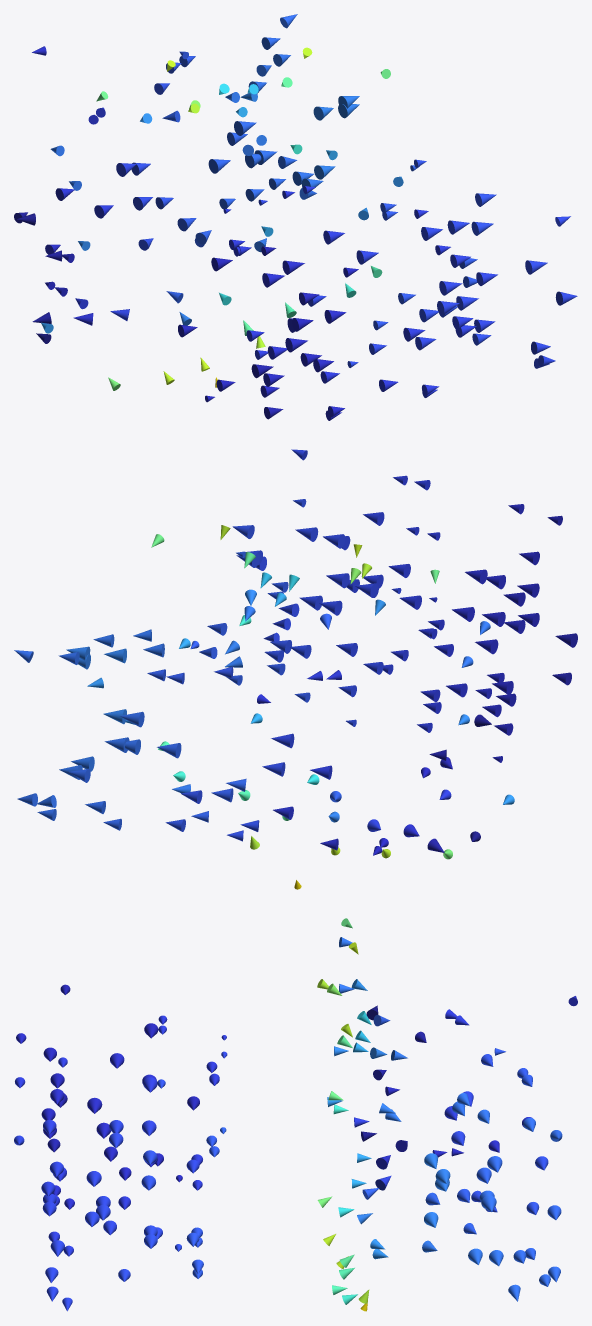
Rendered from LineasCorrienteN2-H2O_mh2-6.88_V-1.1.glb.
The picture shows the model from 3 angles, top to bottom: view 1: azimuth 30°, elevation 25°; view 2: azimuth 150°, elevation 25°; view 3: azimuth 270°, elevation 25°; orthographic projection. The views are drawn at different scales.
Bounding box in the file's own units: 0.000992 × 0.000811 × 0.00121.
Materials: 2 (2 with a texture image).
